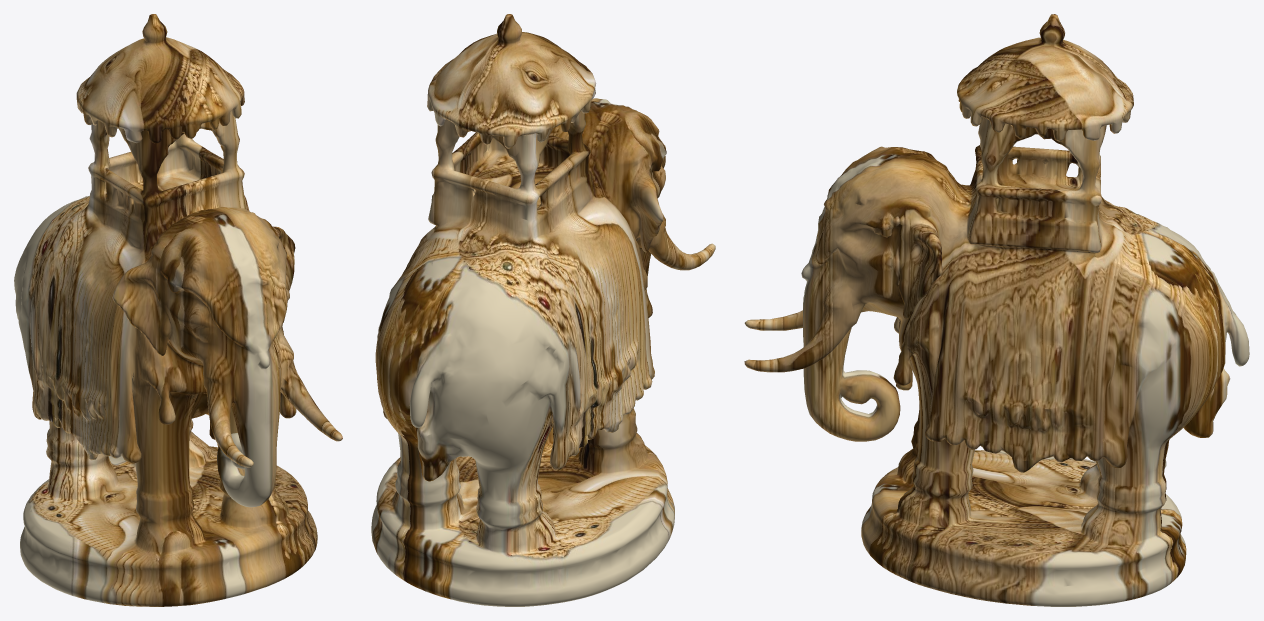
File: gaja.glb
The picture shows the model from 3 angles, left to right: view 1: azimuth 30°, elevation 25°; view 2: azimuth 150°, elevation 25°; view 3: azimuth 270°, elevation 25°; orthographic projection. The views are drawn at different scales.
Parts seen in each view (by area): view 1: geometry_0; view 2: geometry_0; view 3: geometry_0.
Boxes of the visible parts, x1,y1,x2,y2 form: geometry_0: (14,14,342,606); geometry_0: (371,14,715,606); geometry_0: (744,14,1249,606).
Bounding box in the file's own units: 0.9838 × 2 × 1.67.
1 material, 1 textured.
